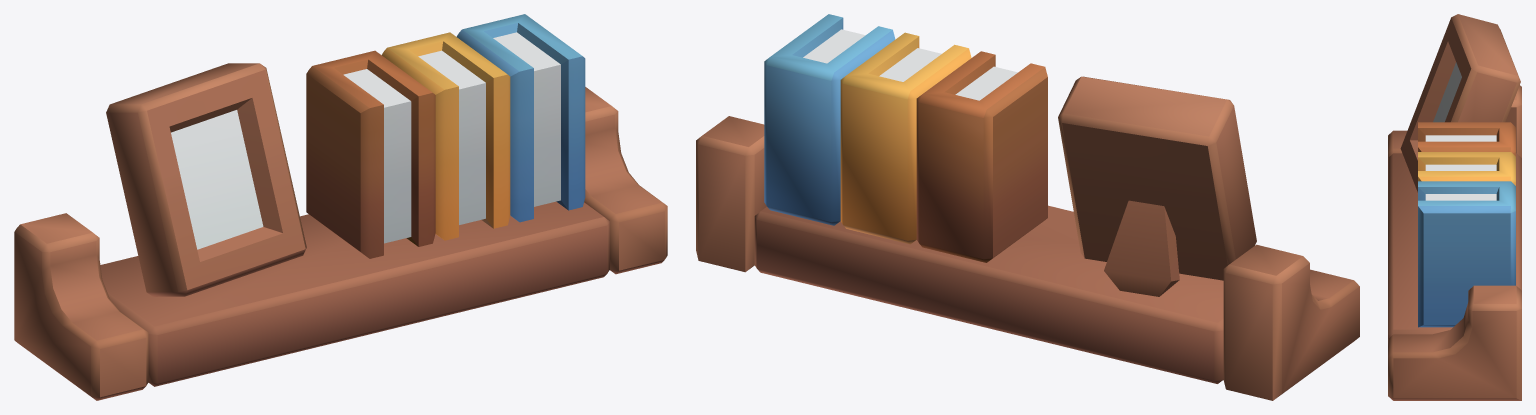
The model's file is bookcase.glb.
The picture shows the model from 3 angles, left to right: view 1: azimuth 30°, elevation 25°; view 2: azimuth 150°, elevation 25°; view 3: azimuth 270°, elevation 25°; orthographic projection. The views are drawn at different scales.
Visible parts, largest first — view 1: shelf_B_large_decorated; view 2: shelf_B_large_decorated; view 3: shelf_B_large_decorated.
Part boxes in pixels (<box>): shelf_B_large_decorated: <box>14,14,667,400</box>; shelf_B_large_decorated: <box>696,14,1359,400</box>; shelf_B_large_decorated: <box>1388,14,1521,400</box>.
Bounding box in the file's own units: 2 × 0.8175 × 0.5001.
1 material, 1 textured.
